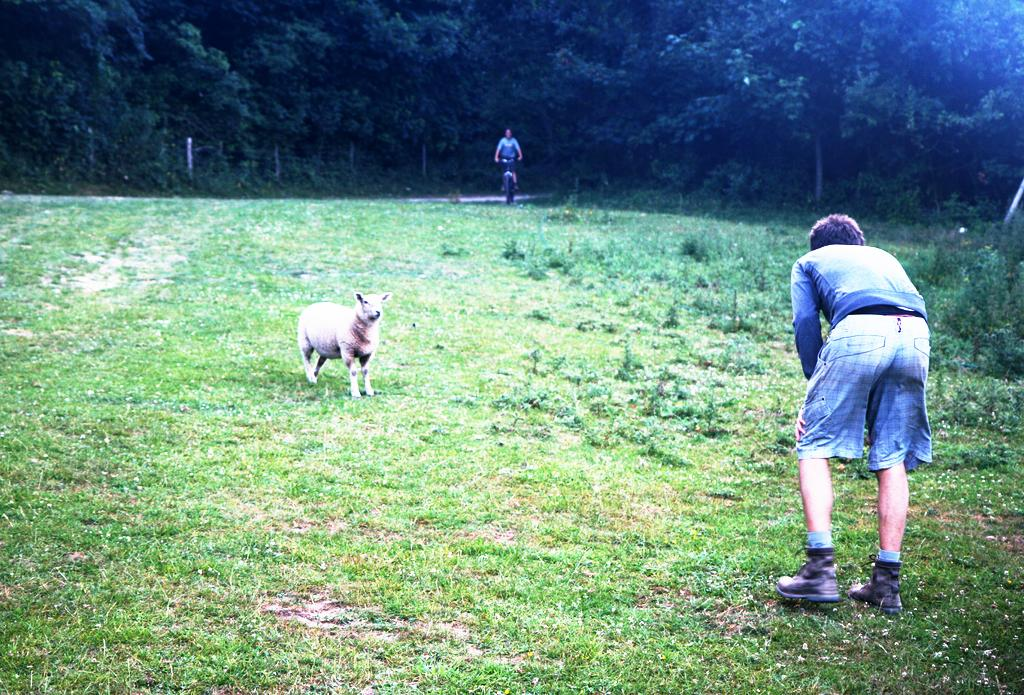Sheep: (300, 294, 392, 396)
